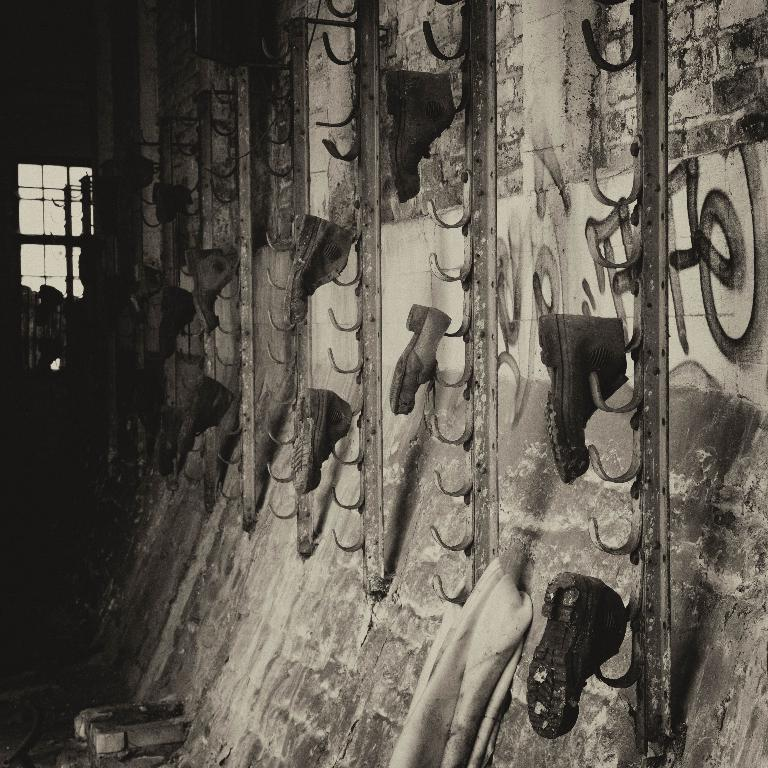Footwear: (524, 576, 634, 752), (537, 312, 625, 478), (378, 74, 457, 205), (284, 212, 353, 331), (387, 306, 455, 420), (292, 386, 349, 494), (180, 374, 237, 450), (188, 248, 237, 331), (160, 287, 200, 360), (134, 347, 166, 430), (154, 179, 188, 219)
